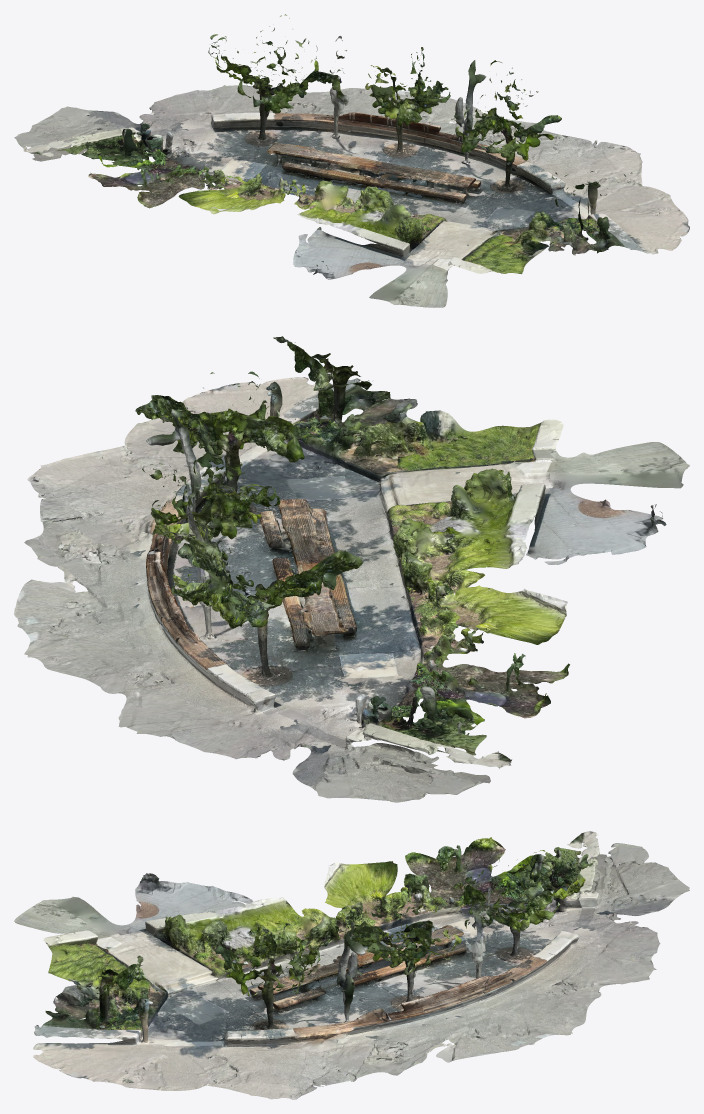
The model's file is Squirrel_Grove.glb.
3 views of the same model, one above another, from view 1: azimuth 30°, elevation 25°; view 2: azimuth 150°, elevation 25°; view 3: azimuth 270°, elevation 25° (orthographic). The views are drawn at different scales.
Size of the model in its own units: 24.34 by 5.43 by 27.29.
5 materials, 5 textured.
